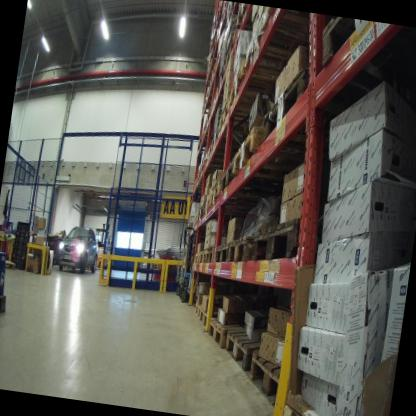forklift: (88, 217, 113, 275)
pallet: (259, 61, 350, 157), (310, 15, 416, 93), (229, 112, 310, 189), (247, 9, 327, 65), (219, 316, 283, 379), (250, 209, 313, 272), (244, 347, 302, 412), (230, 59, 294, 115), (215, 96, 284, 147), (219, 159, 283, 206), (211, 301, 257, 354), (276, 391, 357, 416), (224, 232, 254, 263), (204, 126, 232, 159), (198, 305, 225, 339), (201, 60, 220, 98), (195, 191, 212, 229), (207, 177, 225, 212), (232, 4, 255, 31), (210, 237, 228, 264), (190, 295, 203, 322), (0, 289, 10, 324), (208, 89, 223, 111), (201, 109, 214, 133), (1, 254, 18, 272), (203, 243, 216, 264), (197, 247, 209, 267), (201, 155, 211, 175), (192, 211, 201, 232), (195, 162, 204, 183), (193, 249, 201, 265)
pallet_truck: (175, 227, 207, 302), (169, 226, 188, 298), (174, 228, 192, 299)
